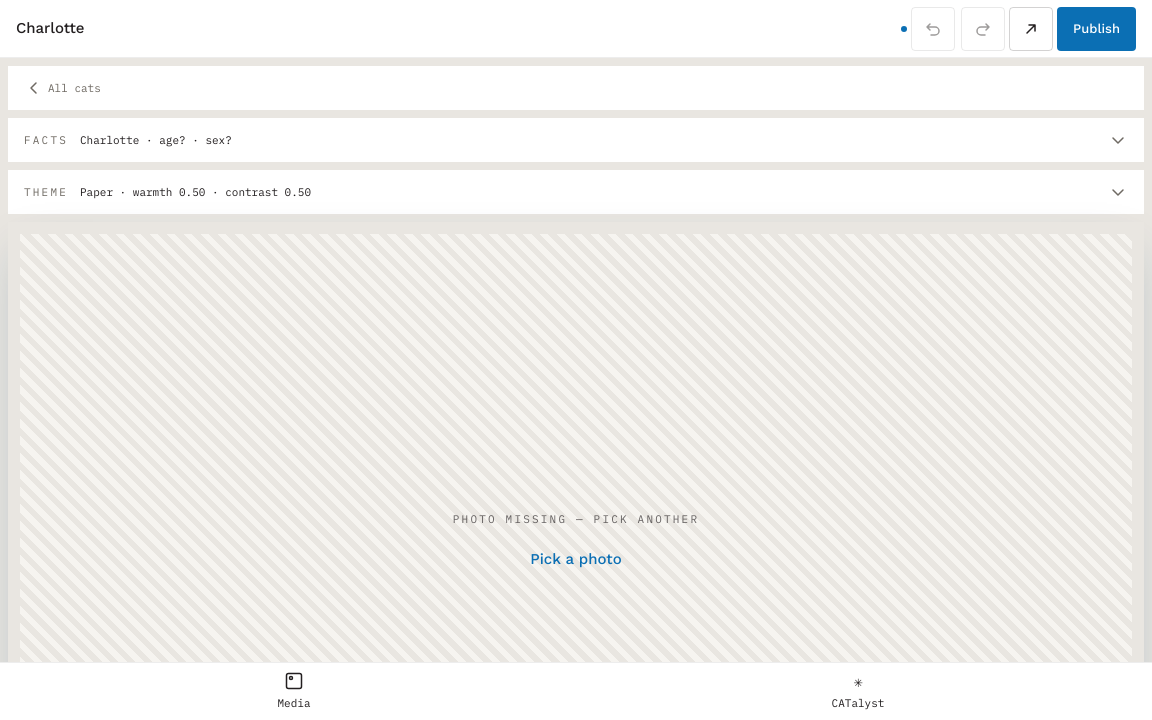
the CATalyst drawer's state machine › a turn ending in a question raises Half with the proposal and the composer
The width and height of the screenshot is (1152, 720).
Click the button "✳ CATalyst": (858, 692) [580,663,1136,719]
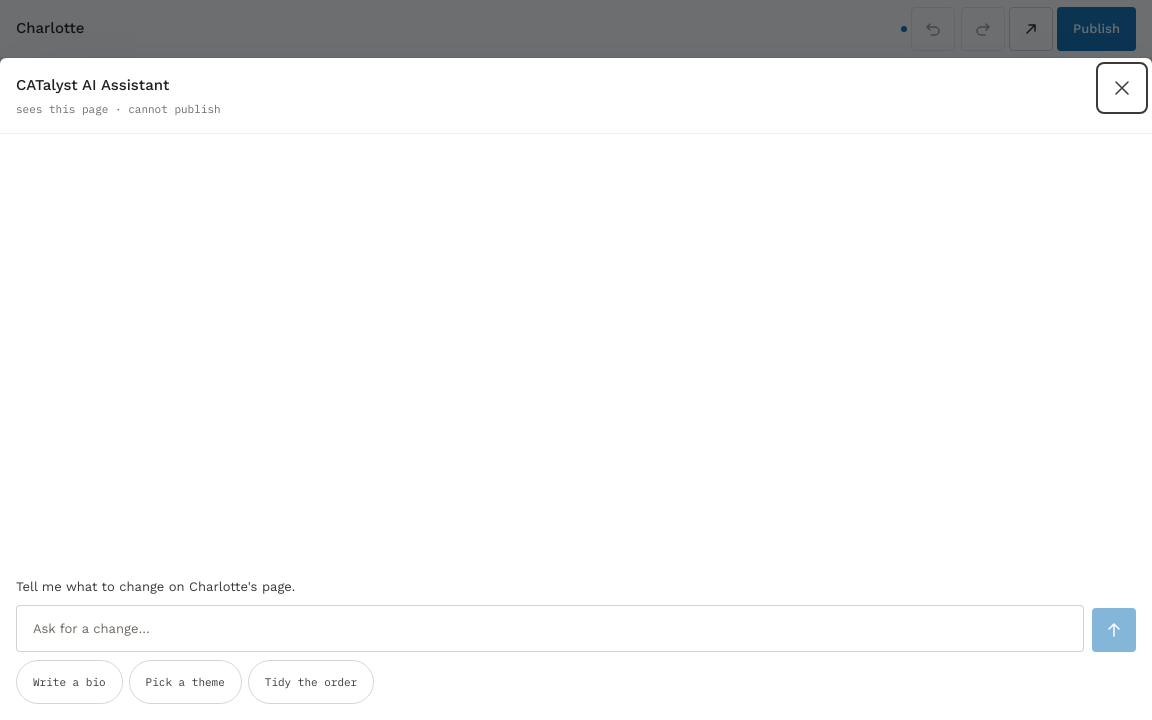
In the text box with placeholder "Ask for a change…": (550, 628) [16,605,1084,652], type "Build the page"
Then press Enter
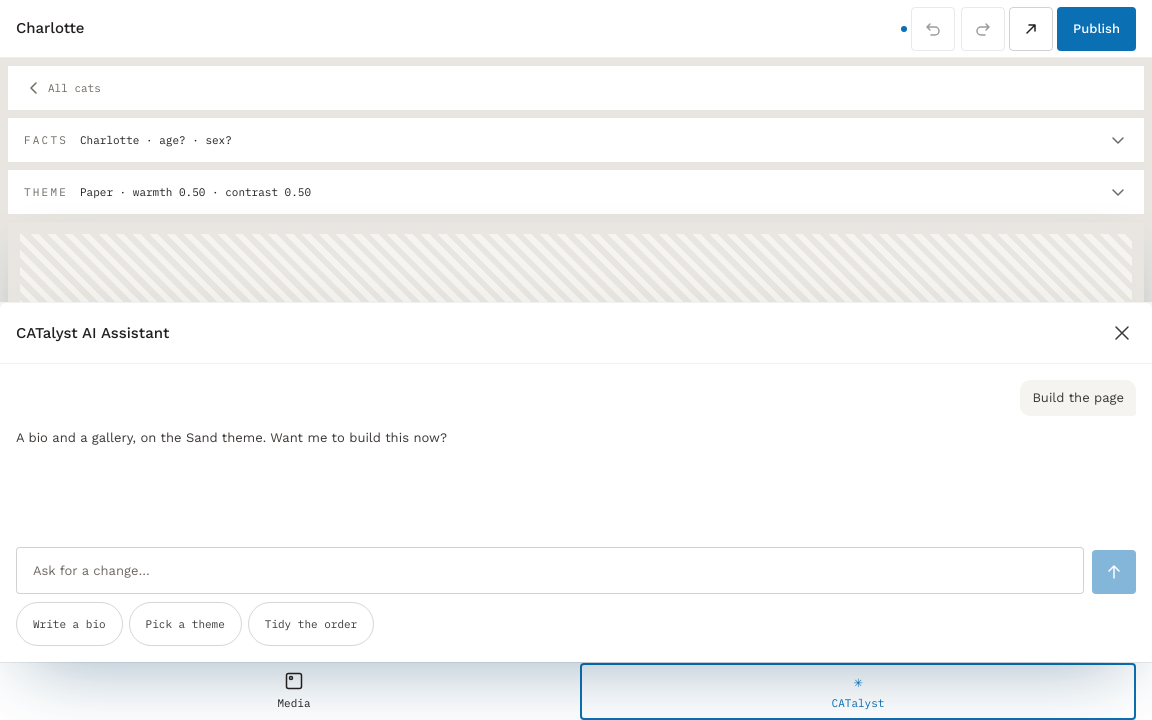
Expected: the text box with placeholder "Ask for a change…" is enabled, [16,547,1084,594]
Expected: the text "A bio and a gallery, on the Sand theme. Want me to build this now?" is shown, [16,430,447,444]
Click the button named "Close": (1122, 333) [1100,311,1144,355]
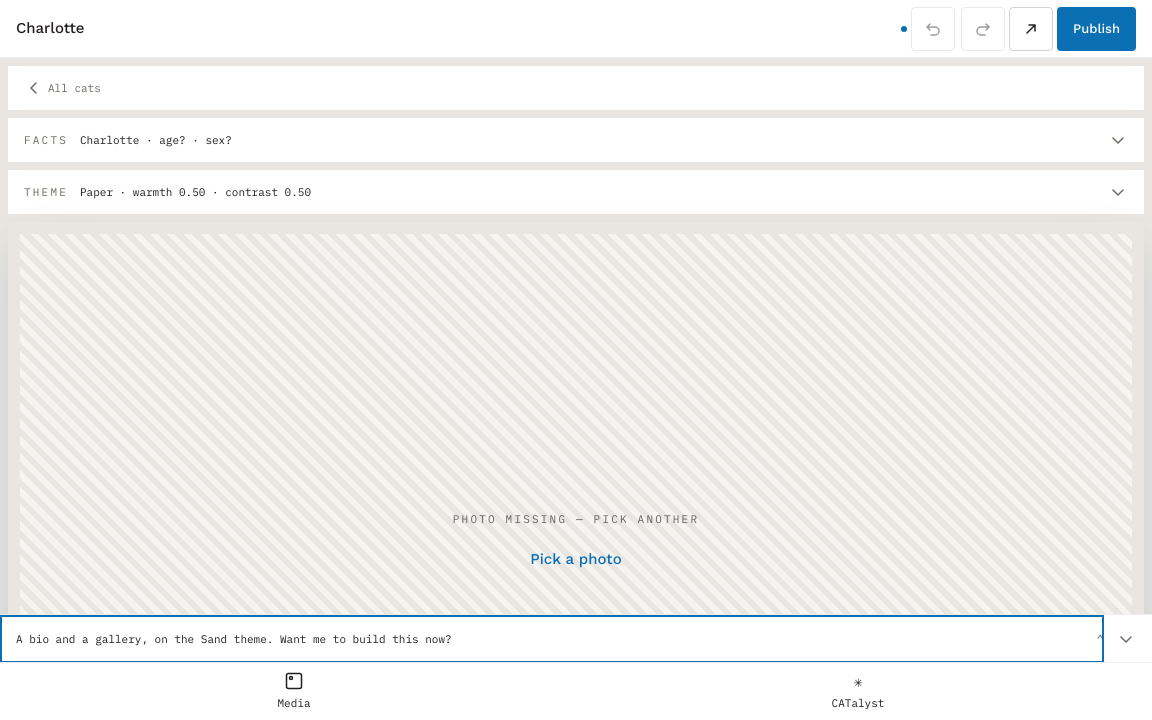
Expected: the button with aria-label "open CATalyst" shows "A bio and a gallery, on the Sand theme. Want me to build this now?", [0,615,1104,663]
